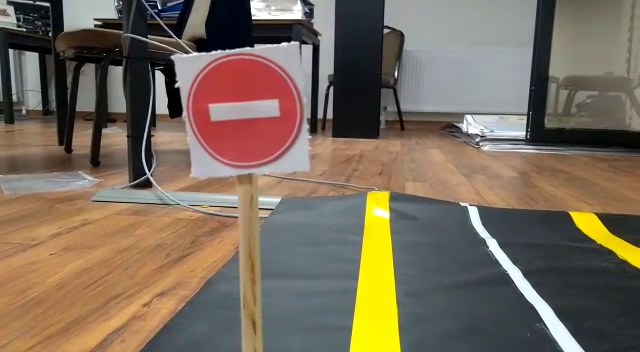girisi_olmayan_yol: (174, 55, 309, 170)
